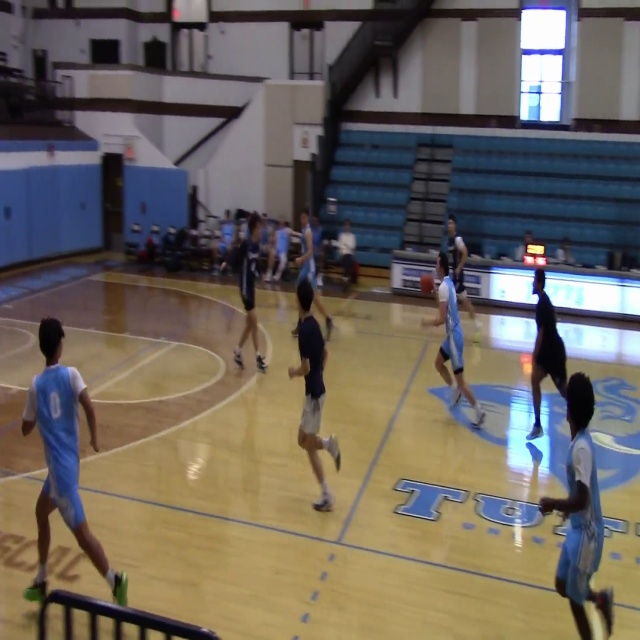Basketball: (297, 279, 314, 310), (420, 274, 434, 295)
